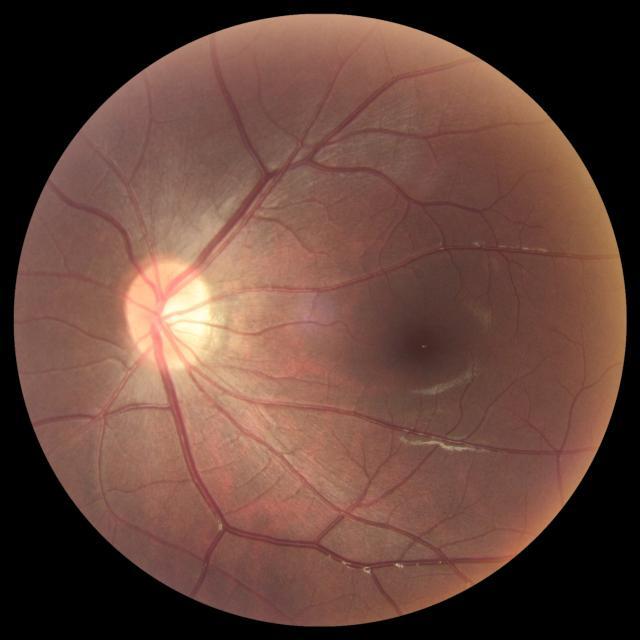OC: (156, 292, 192, 333)
OD: (124, 260, 212, 369)
